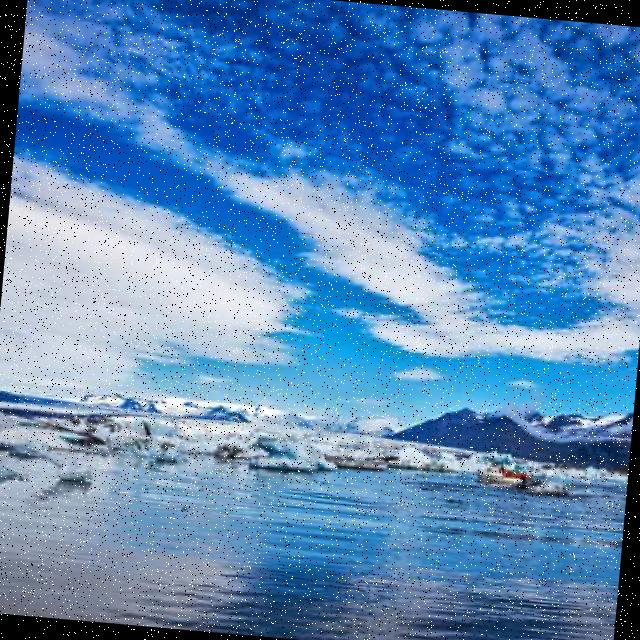St: (1, 129, 333, 426)
